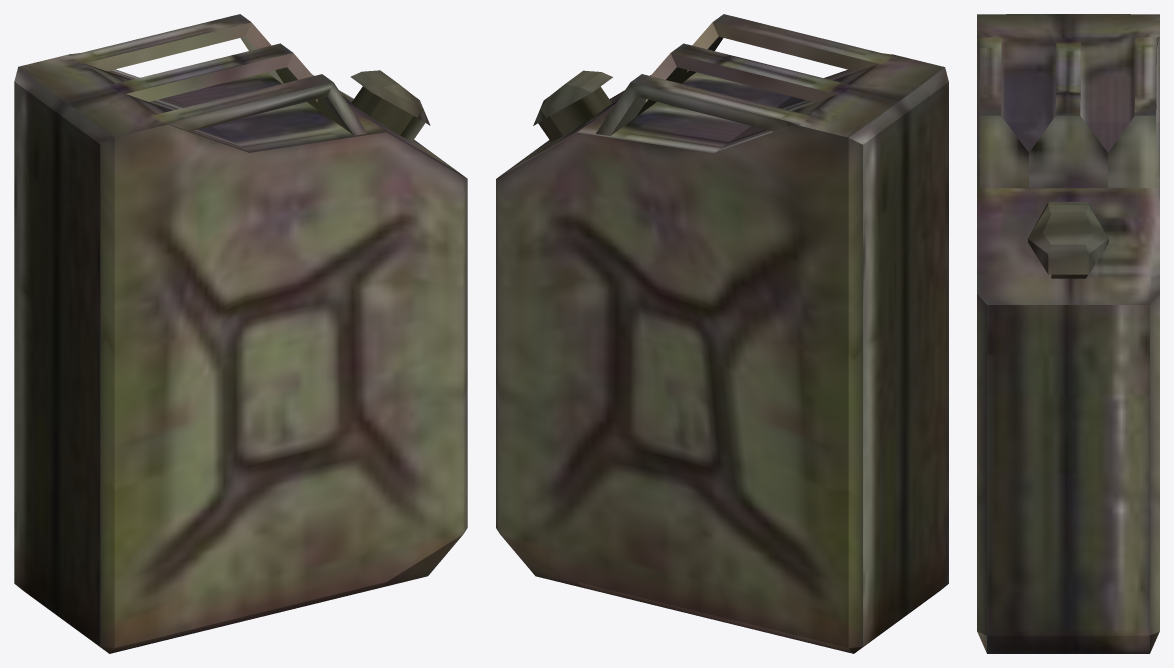
The model's file is jerrycan.fbx.
3 views of the same model, side by side, from view 1: azimuth 30°, elevation 25°; view 2: azimuth 150°, elevation 25°; view 3: azimuth 270°, elevation 25° (orthographic). The views are drawn at different scales.
Visible parts, largest first — view 1: Cube.009; view 2: Cube.009; view 3: Cube.009.
Boxes of the visible parts, x1,y1,x2,y2 form: Cube.009: [14, 14, 467, 653]; Cube.009: [496, 14, 948, 653]; Cube.009: [977, 14, 1159, 653].
Size of the model in its own units: 78.97 by 107 by 35.95.
1 material, 1 textured.
